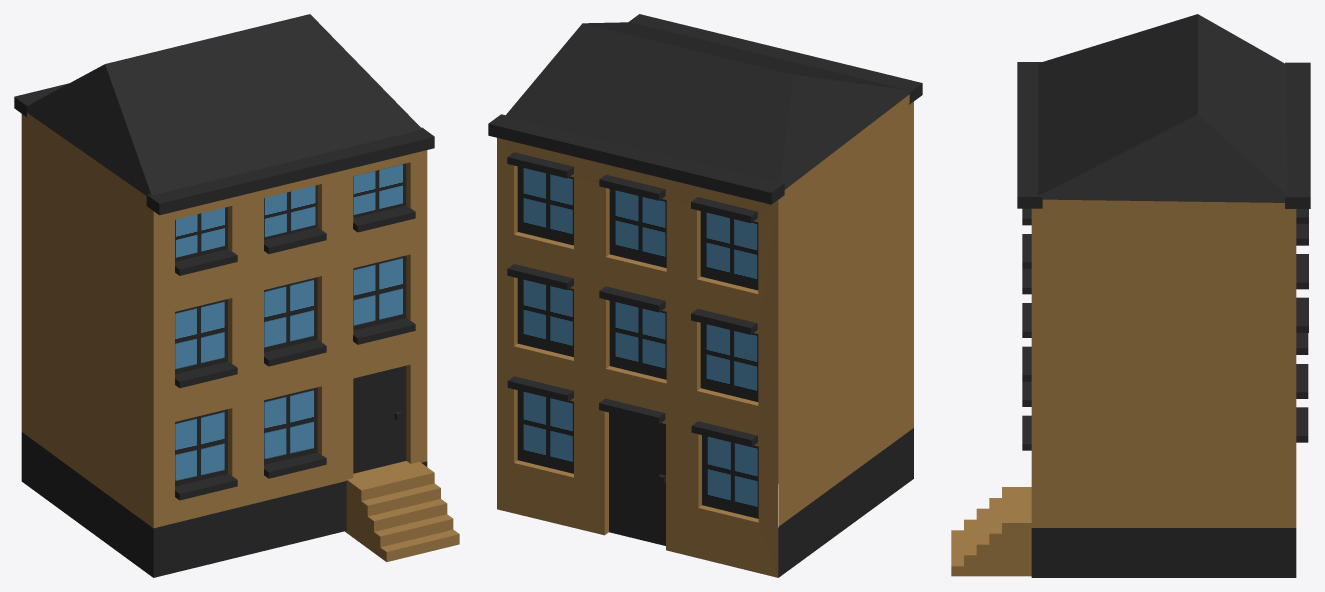
The model's file is JazzNormal3.obj.
The picture shows the model from 3 angles, left to right: view 1: azimuth 30°, elevation 25°; view 2: azimuth 150°, elevation 25°; view 3: azimuth 270°, elevation 25°; orthographic projection. The views are drawn at different scales.
Visible parts, largest first — view 1: ZwyklyJazz.002; view 2: ZwyklyJazz.002; view 3: ZwyklyJazz.002.
Part boxes in pixels (x1,y1,x2,y2): ZwyklyJazz.002: [14, 14, 459, 577]; ZwyklyJazz.002: [488, 14, 922, 577]; ZwyklyJazz.002: [951, 14, 1310, 577].
Bounding box in the file's own units: 6.06 × 9.37 × 6.79.
